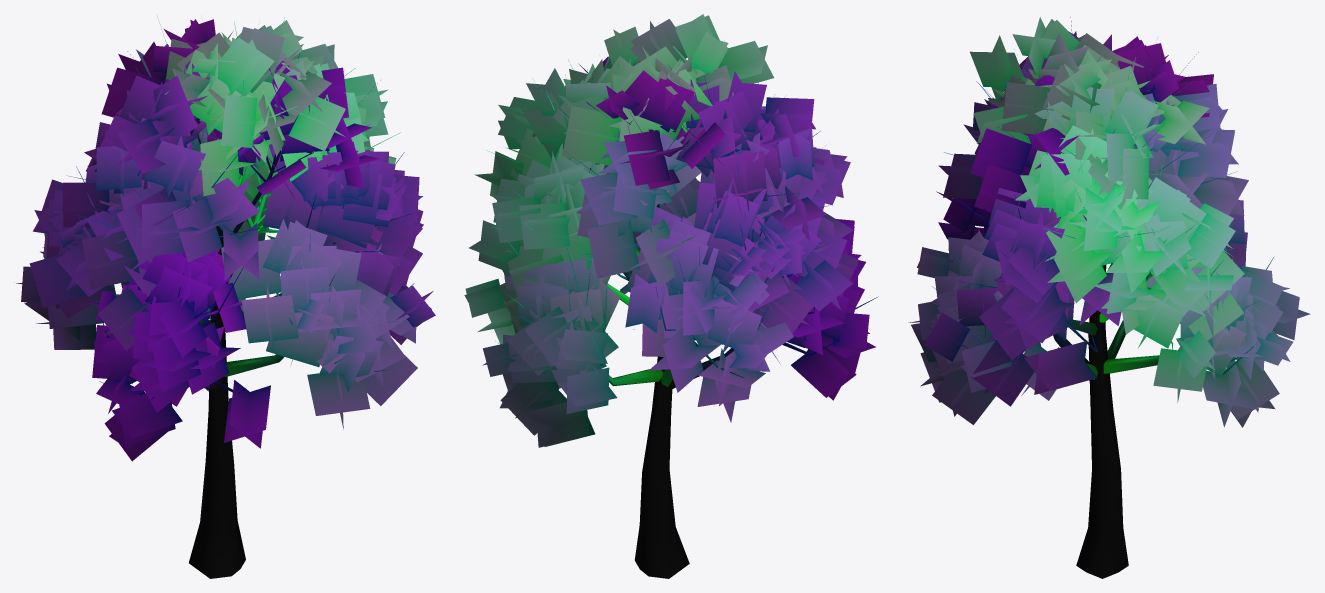
Rendered from foliage_tree_large_004.fbx.
3 renders of one model, left to right at view 1: azimuth 30°, elevation 25°; view 2: azimuth 150°, elevation 25°; view 3: azimuth 270°, elevation 25°, orthographic. The views are drawn at different scales.
Visible parts, largest first — view 1: tree1; view 2: tree1; view 3: tree1.
Boxes of the visible parts, box(x1,y1,x2,y2) form: tree1: box(14, 17, 435, 578); tree1: box(464, 14, 878, 578); tree1: box(908, 17, 1310, 578).
Bounding box in the file's own units: 795 × 1166 × 785.
